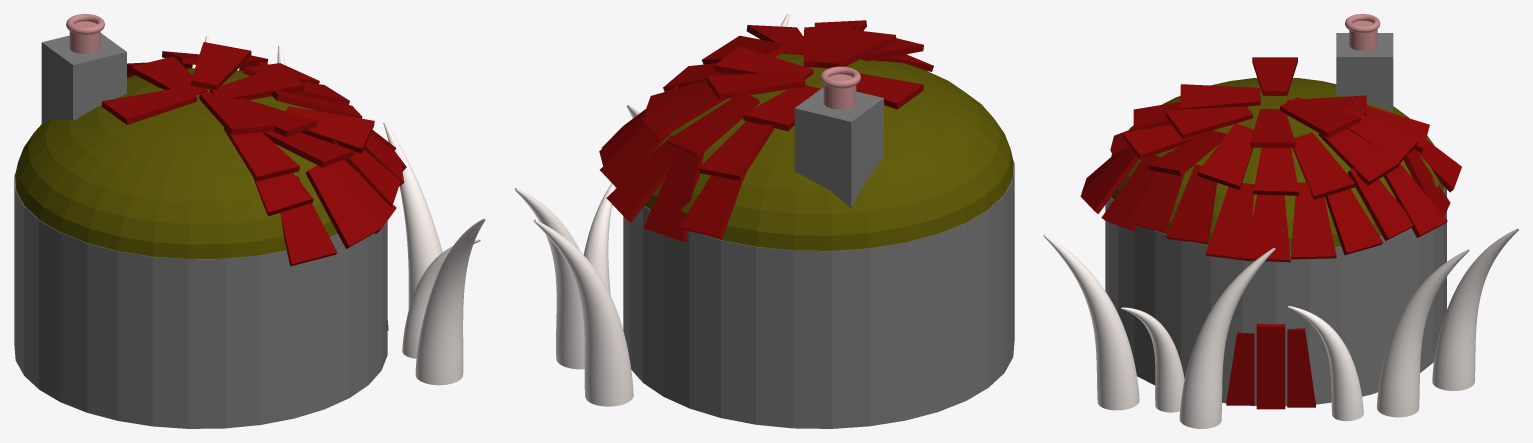
The model's file is EnemyHQ.fbx.
3 renders of one model, left to right at view 1: azimuth 30°, elevation 25°; view 2: azimuth 150°, elevation 25°; view 3: azimuth 270°, elevation 25°, orthographic. The views are drawn at different scales.
Visible parts, largest first — view 1: HutBase, HutRoof, ChimneyStack, GatewayBone.001, GatewayBone, Shingle6, Shingle4, Shingle3, Shingle23, Shingle2, Shingle27, Shingle26 (+14 smaller); view 2: HutBase, HutRoof, ChimneyStack, GatewayBone.003, GatewayBone.002, Shingle16, Shingle17, Shingle18, Shingle15, Shingle19, Shingle27, Shingle26 (+15 smaller); view 3: HutBase, HutRoof, GatewayBone, GatewayBone.001, GatewayBone.002, GatewayBone.003, ChimneyStack, GatewayBoneShapeR, DoorPlank2, Shingle10, Shingle12, GatewayBoneShapeR.001 (+29 smaller).
Boxes of the visible parts, x1,y1,x2,y2 form: HutBase: (14,172,387,428); HutRoof: (15,68,337,259); ChimneyStack: (41,33,126,124); GatewayBone.001: (415,218,485,385); GatewayBone: (383,122,442,309); Shingle6: (305,165,382,248); Shingle4: (280,176,337,266); Shingle3: (224,127,299,181); Shingle23: (286,106,374,153); Shingle2: (102,87,197,124); Shingle27: (190,42,251,89); Shingle26: (199,91,274,134); HutBase: (623,160,1014,428); HutRoof: (644,53,1013,250); ChimneyStack: (794,87,883,208); GatewayBone.003: (533,219,633,406); GatewayBone.002: (514,188,584,369); Shingle16: (643,146,704,242); Shingle17: (679,174,745,239); Shingle18: (698,113,778,180); Shingle15: (606,135,677,222); Shingle19: (667,94,759,157); Shingle27: (706,71,805,99); Shingle26: (814,29,896,68); HutBase: (1105,187,1446,406); HutRoof: (1111,78,1444,251); GatewayBone: (1179,247,1275,428); GatewayBone.001: (1043,234,1139,410); GatewayBone.002: (1377,249,1469,417); GatewayBone.003: (1432,228,1518,390); ChimneyStack: (1336,33,1393,111); GatewayBoneShapeR: (1288,306,1363,421); DoorPlank2: (1256,323,1285,409); Shingle10: (1206,183,1254,261); Shingle12: (1291,182,1336,259); GatewayBoneShapeR.001: (1121,307,1184,412).
Bounding box in the file's own units: 691 × 555 × 836.
